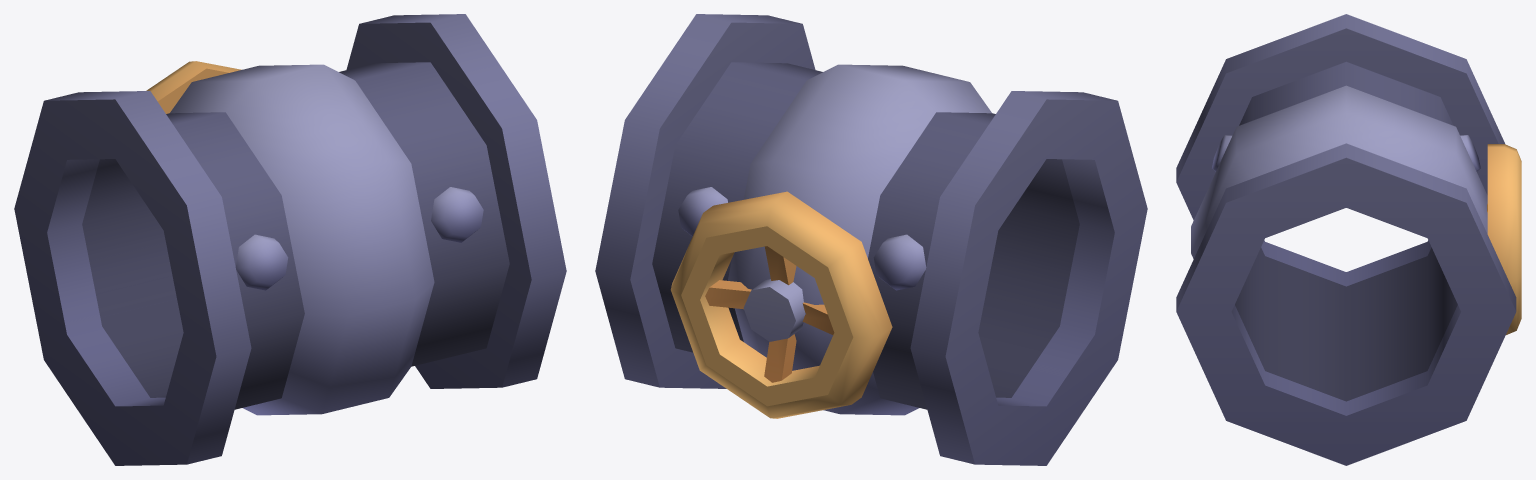
The model's file is kenney-factory-pipe-large-valve.glb.
The picture shows the model from 3 angles, left to right: view 1: azimuth 30°, elevation 25°; view 2: azimuth 150°, elevation 25°; view 3: azimuth 270°, elevation 25°; orthographic projection. The views are drawn at different scales.
Visible parts, largest first — view 1: pipe-large-valve; view 2: pipe-large-valve; view 3: pipe-large-valve.
Boxes of the visible parts, x1,y1,x2,y2 form: pipe-large-valve: (14, 14, 566, 465); pipe-large-valve: (595, 14, 1147, 465); pipe-large-valve: (1176, 14, 1521, 465).
Size of the model in its own units: 1.5 by 1.5 by 1.52.
1 material, 1 textured.
